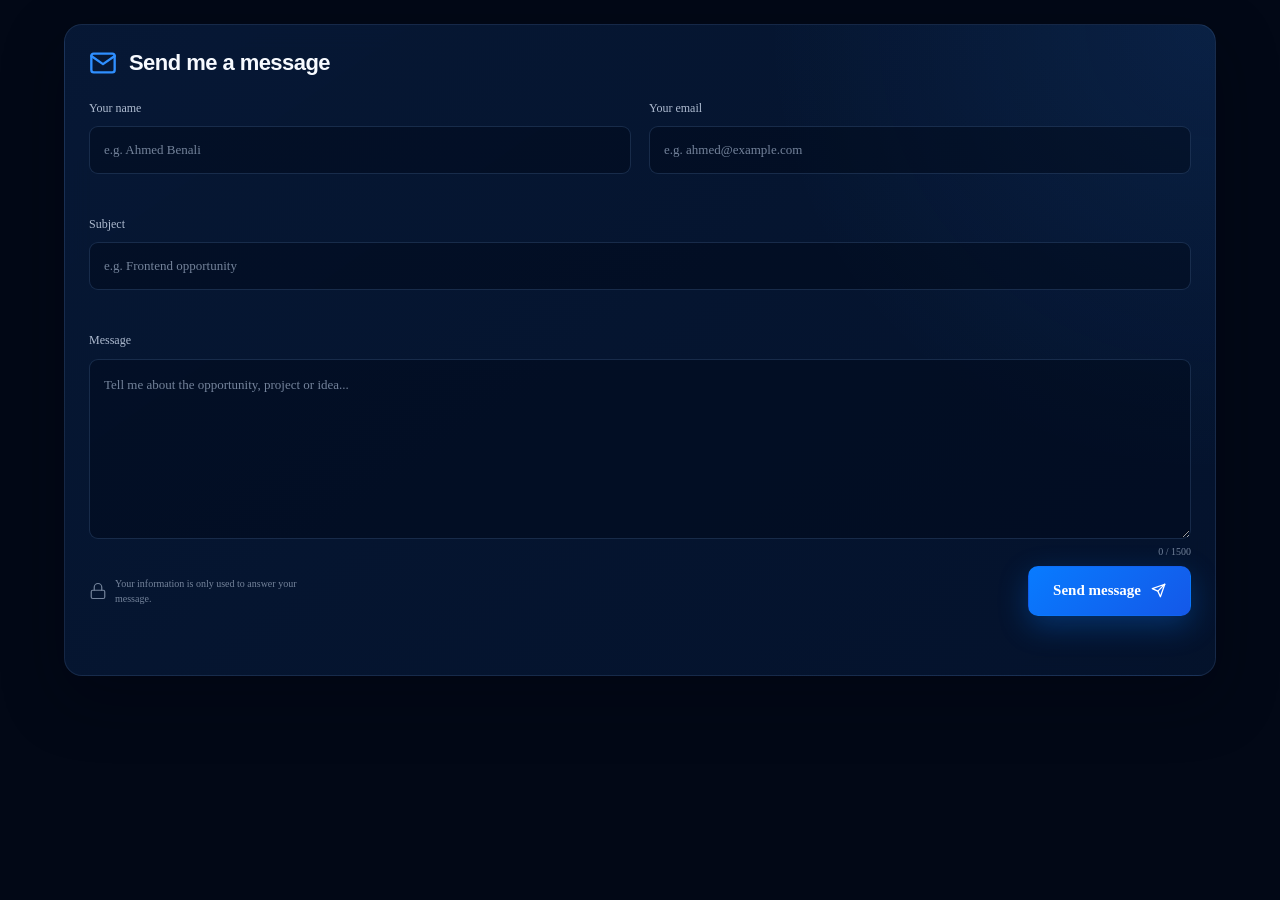
Test: ContactForm › submits to the contact endpoint and announces success
Type "Jane Doe" into the field labelled "Your name" at (360, 150), box [89,126,631,174]
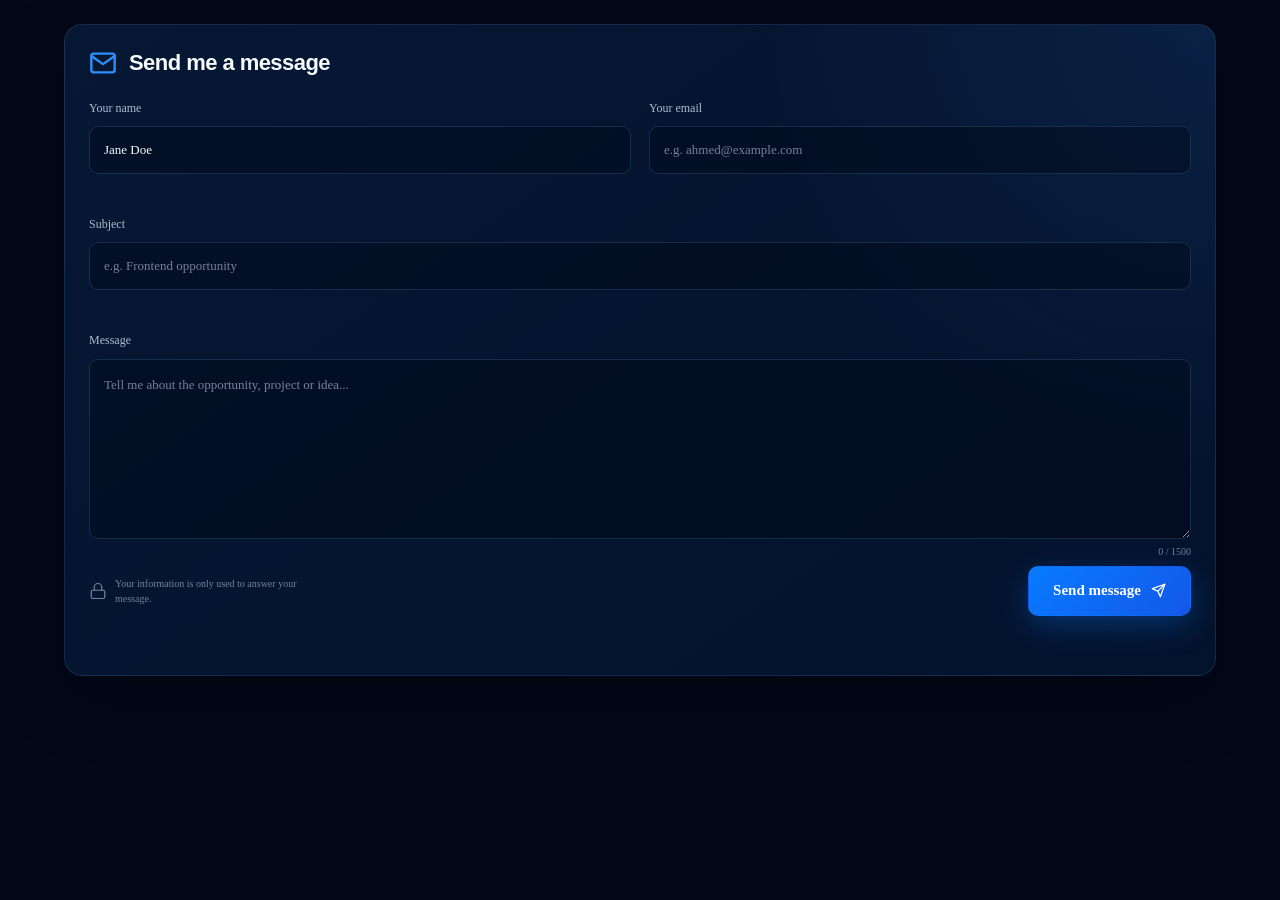
Type "jane@example.com" into the field labelled "Your email" at (920, 150), box [649,126,1191,174]
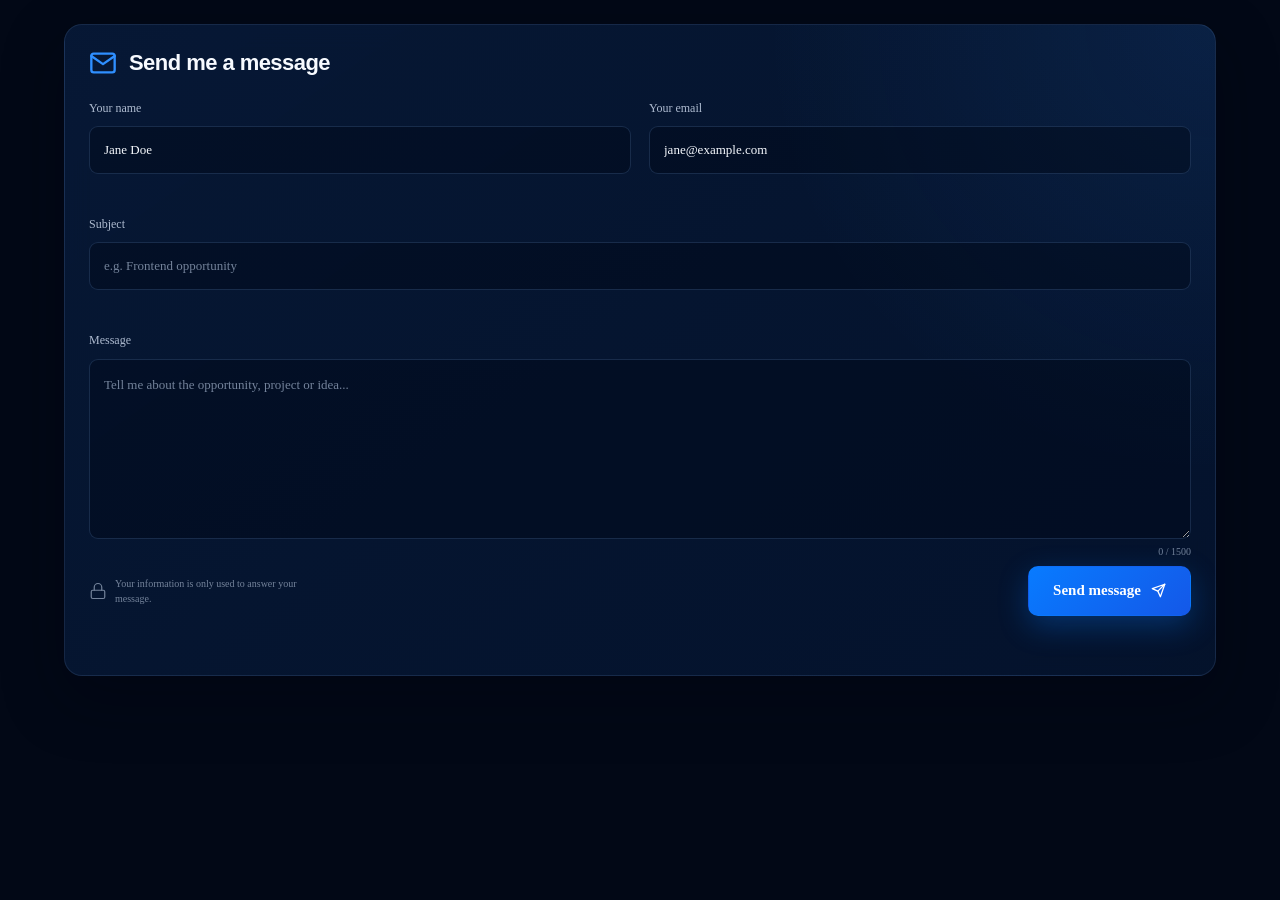
Type "Frontend opportunity" into the field labelled "Subject" at (640, 266), box [89,242,1191,290]
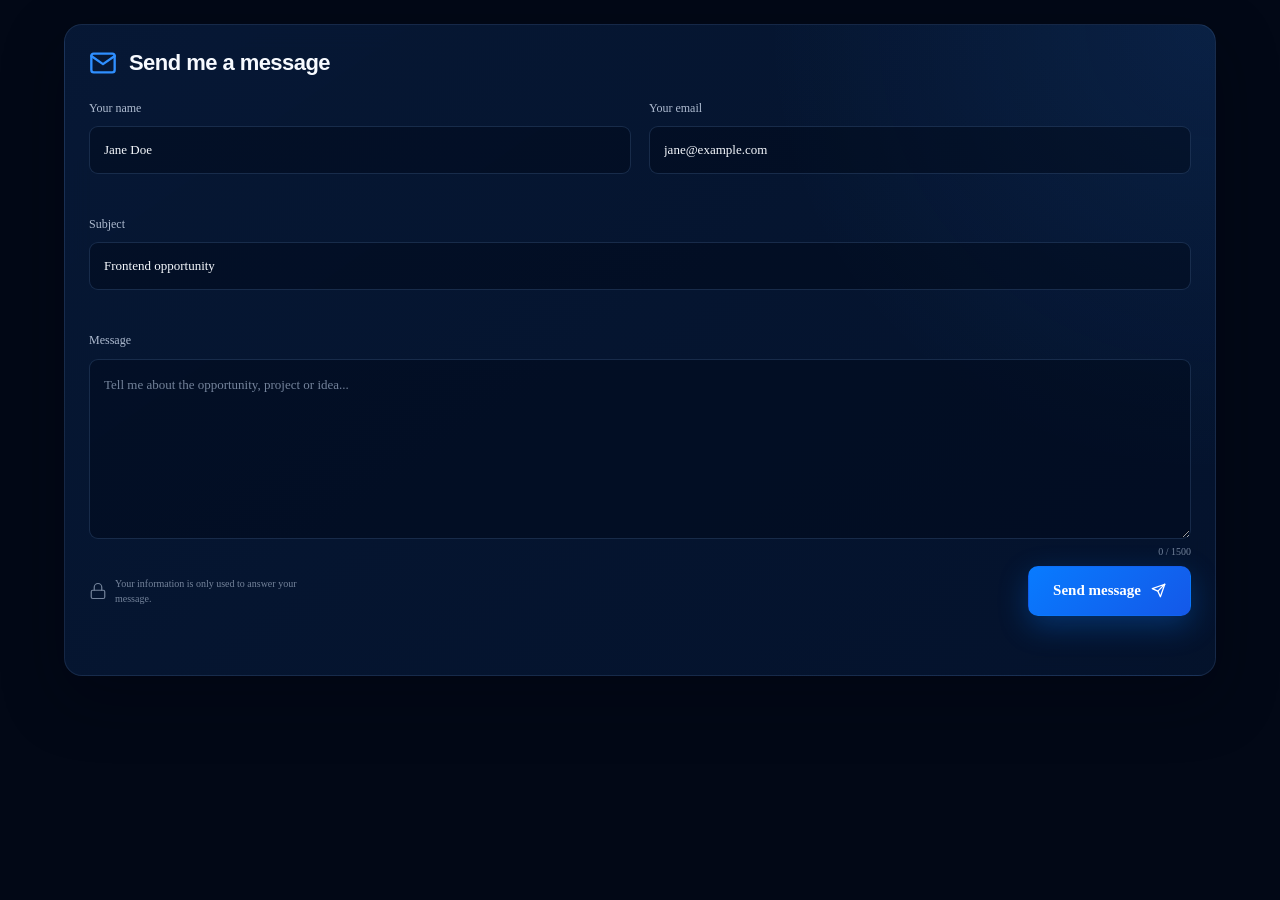
Type "I would like to discuss a frontend opportunity." into the text box labelled "Message" at (640, 449), box [89,359,1191,539]
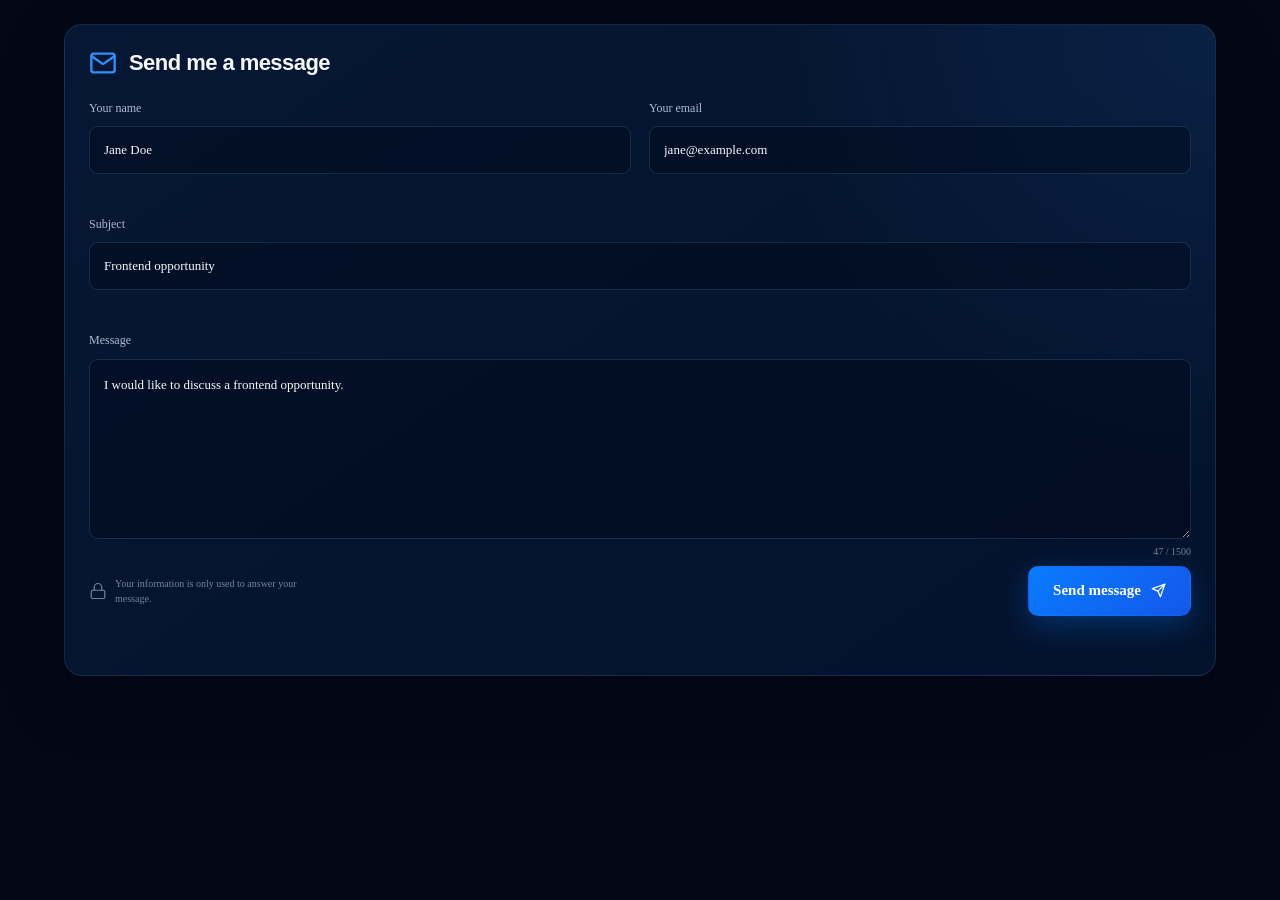
Click the button "Send message" at (1110, 591), box [1028,566,1191,616]
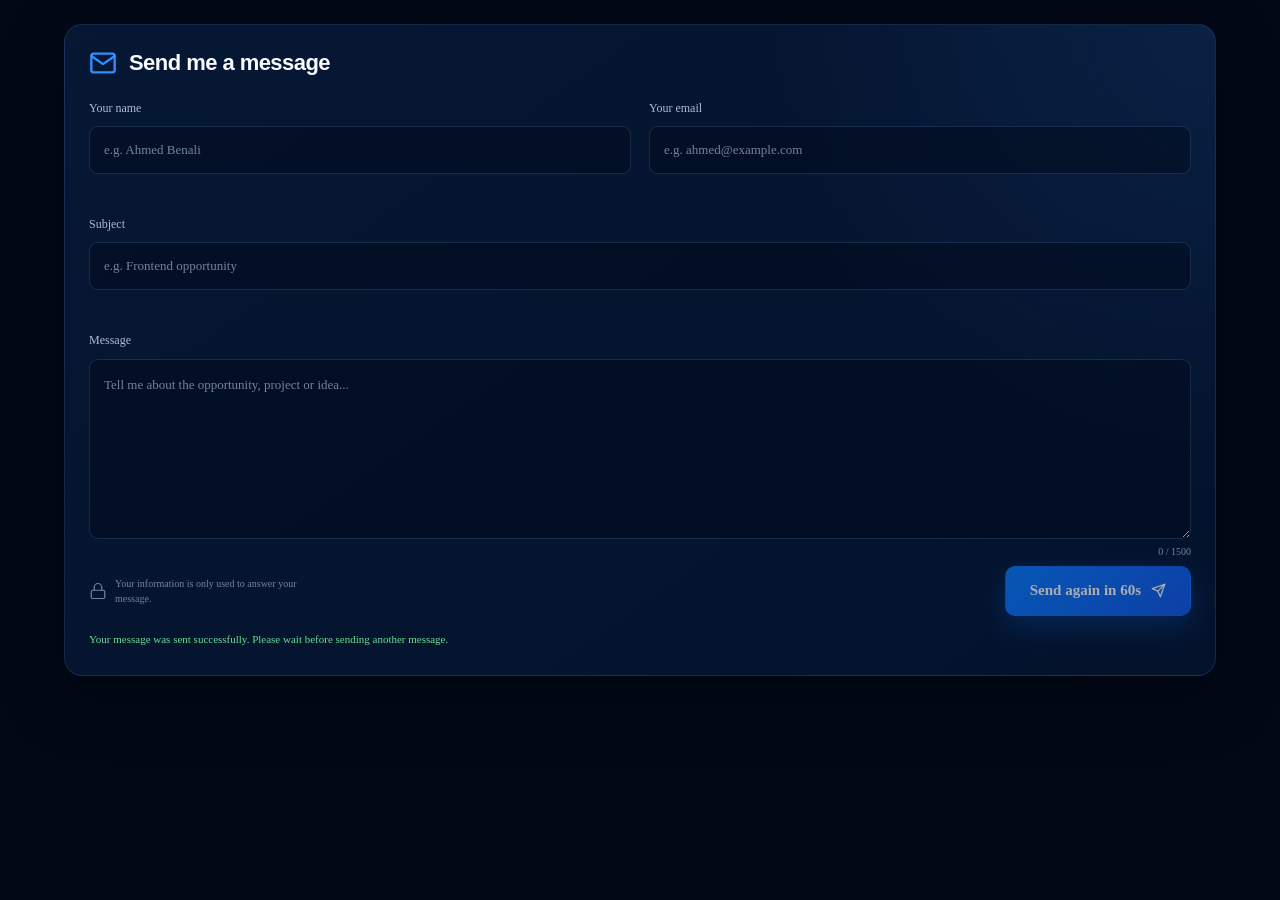
Check: the text "Your message was sent successfully. Please wait before sending another message." is shown, box [89,633,448,645]
